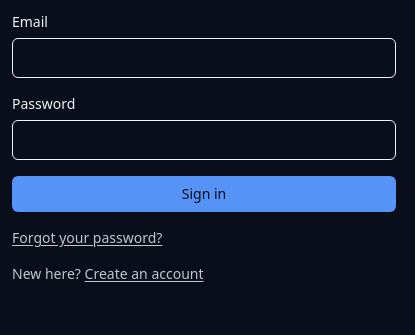
Test: <LoginForm /> (field-associated errors, spec §12.3) › maps a 401 envelope onto the form error region
The width and height of the screenshot is (415, 335).
Type "a@x.com" into the field labelled "Email" at (204, 58), box [12, 38, 396, 78]
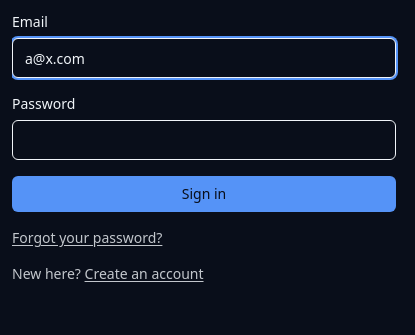
Type "wrong-pass-1" into the password field labelled "Password" at (204, 140), box [12, 120, 396, 160]
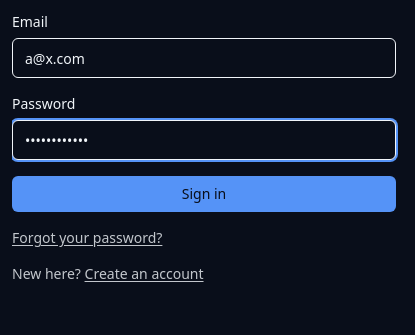
Click the button "Sign in" at (204, 194), box [12, 176, 396, 212]
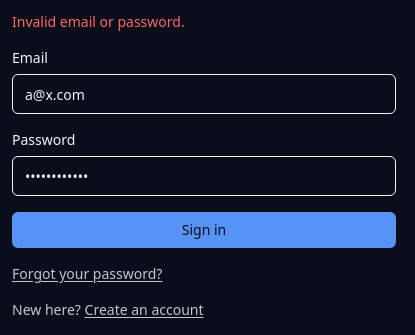
Expected: the message shows "Invalid email or password", [12, 12, 185, 31]
